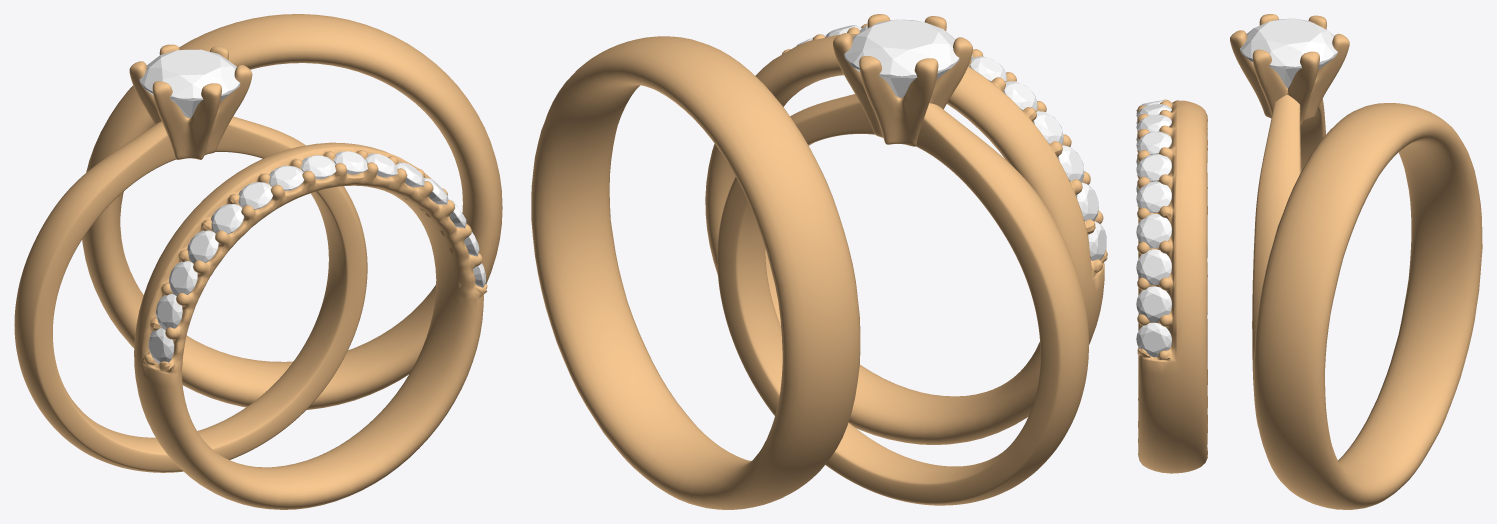
File: ring.glb
The picture shows the model from 3 angles, left to right: view 1: azimuth 30°, elevation 25°; view 2: azimuth 150°, elevation 25°; view 3: azimuth 270°, elevation 25°; orthographic projection. The views are drawn at different scales.
Visible parts, largest first — view 1: ring-her, ring-him, ring-soli, ring-soli-prong, dia-ring-soli, dia-019, dia-018, dia-020, dia-017, dia-021, dia-016, dia-022 (+2 smaller); view 2: ring-him, ring-soli, ring-her, ring-soli-prong, dia-ring-soli, dia-019, dia-018, dia-020; view 3: ring-him, ring-her, ring-soli, ring-soli-prong, dia-ring-soli, dia-029, dia-028, dia-030, dia-027, dia-026, dia-025, dia-024 (+1 smaller).
Boxes of the visible parts, x1,y1,x2,y2 form: ring-her: (134, 142, 487, 509); ring-him: (82, 14, 502, 409); ring-soli: (14, 116, 367, 472); ring-soli-prong: (129, 44, 252, 159); dia-ring-soli: (139, 49, 240, 117); dia-019: (187, 230, 218, 263); dia-018: (169, 261, 197, 295); dia-020: (211, 204, 243, 233); dia-017: (156, 294, 182, 329); dia-021: (238, 182, 272, 209); dia-016: (148, 328, 174, 363); dia-022: (268, 165, 304, 190); ring-him: (531, 36, 860, 509); ring-soli: (717, 94, 1088, 505); ring-her: (705, 23, 1107, 444); ring-soli-prong: (833, 14, 972, 146); dia-ring-soli: (844, 19, 959, 97); dia-019: (1033, 111, 1063, 144); dia-018: (1057, 145, 1084, 182); dia-020: (1003, 81, 1037, 111); ring-him: (1253, 103, 1482, 509); ring-her: (1137, 99, 1207, 473); ring-soli: (1252, 95, 1325, 427); ring-soli-prong: (1230, 14, 1349, 125); dia-ring-soli: (1240, 18, 1337, 88); dia-029: (1136, 286, 1171, 322); dia-028: (1136, 249, 1171, 285); dia-030: (1136, 322, 1171, 357); dia-027: (1136, 214, 1171, 248); dia-026: (1136, 181, 1171, 212); dia-025: (1136, 154, 1171, 181); dia-024: (1136, 131, 1171, 154).
Bounding box in the file's own units: 2.77 × 2.26 × 1.79.
